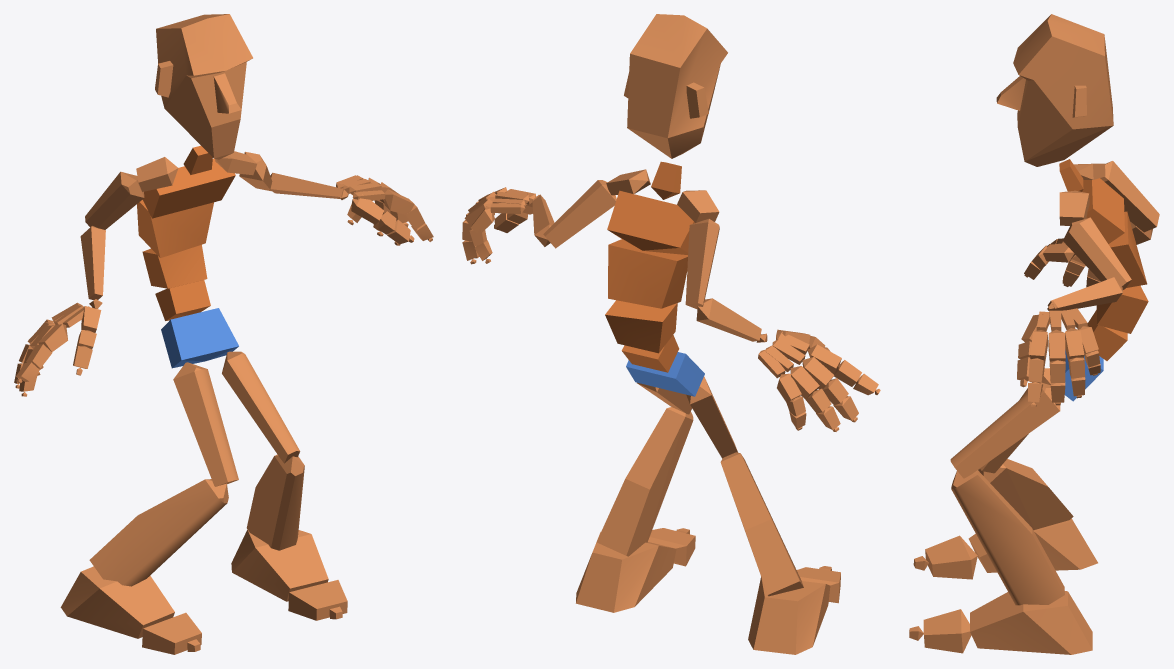
Rendered from prueba276.obj.
3 renders of one model, left to right at view 1: azimuth 30°, elevation 25°; view 2: azimuth 150°, elevation 25°; view 3: azimuth 270°, elevation 25°, orthographic. The views are drawn at different scales.
Parts seen in each view (by area): view 1: BOPED_Head, BOPED_R_leg, BOPED_R_foot, BOPED_R_foot01, BOPED_L_leg, BOPED_R_legup, Bone01, BOPED_L_legup, Bone04, Bone05, Bone03, BOPED_R_arm_upper (+9 smaller); view 2: BOPED_Head, BOPED_L_leg, BOPED_R_foot01, BOPED_R_foot, BOPED_R_leg, Bone04, Bone05, Bone03, BOPED_R_arm_upper, BOPED_L_arm_upper, Bone01, BOPED_R_legup (+9 smaller); view 3: BOPED_Head, BOPED_L_leg, BOPED_R_foot01, BOPED_L_legup, BOPED_R_leg, BOPED_R_foot, BOPED_L_arm_upper, Bone05, BOPED_R_foot_toe01, BOPED_R_arm_upper, BOPED_R_foot_toe04, Bone03 (+13 smaller).
Part boxes in pixels (<box>): BOPED_Head: <box>155,14,252,159</box>; BOPED_R_leg: <box>89,479,228,586</box>; BOPED_R_foot: <box>60,566,174,638</box>; BOPED_R_foot01: <box>231,529,328,601</box>; BOPED_L_leg: <box>246,454,304,550</box>; BOPED_R_legup: <box>173,362,238,486</box>; Bone01: <box>161,308,238,368</box>; BOPED_L_legup: <box>222,351,300,463</box>; Bone04: <box>137,200,213,257</box>; Bone05: <box>142,158,235,218</box>; Bone03: <box>142,244,207,288</box>; BOPED_R_arm_upper: <box>85,171,144,229</box>; BOPED_Head: <box>624,14,727,158</box>; BOPED_L_leg: <box>596,407,693,556</box>; BOPED_R_foot01: <box>576,532,676,612</box>; BOPED_R_foot: <box>748,577,830,654</box>; BOPED_R_leg: <box>720,452,803,596</box>; Bone04: <box>608,239,687,308</box>; Bone05: <box>607,190,694,254</box>; Bone03: <box>605,300,677,353</box>; BOPED_R_arm_upper: <box>685,219,719,309</box>; BOPED_L_arm_upper: <box>543,180,616,248</box>; Bone01: <box>626,352,704,396</box>; BOPED_R_legup: <box>686,376,737,458</box>; BOPED_Head: <box>996,14,1113,166</box>; BOPED_L_leg: <box>951,470,1064,605</box>; BOPED_R_foot01: <box>970,591,1092,654</box>; BOPED_L_legup: <box>950,382,1060,478</box>; BOPED_R_leg: <box>978,459,1073,530</box>; BOPED_R_foot: <box>968,518,1097,572</box>; BOPED_L_arm_upper: <box>1063,217,1131,289</box>; Bone05: <box>1082,178,1124,243</box>; BOPED_R_foot_toe01: <box>925,535,977,579</box>; BOPED_R_arm_upper: <box>1100,161,1159,232</box>; BOPED_R_foot_toe04: <box>923,609,971,653</box>; Bone03: <box>1096,285,1148,333</box>.
Size of the model in its own units: 130 by 175 by 67.37.
